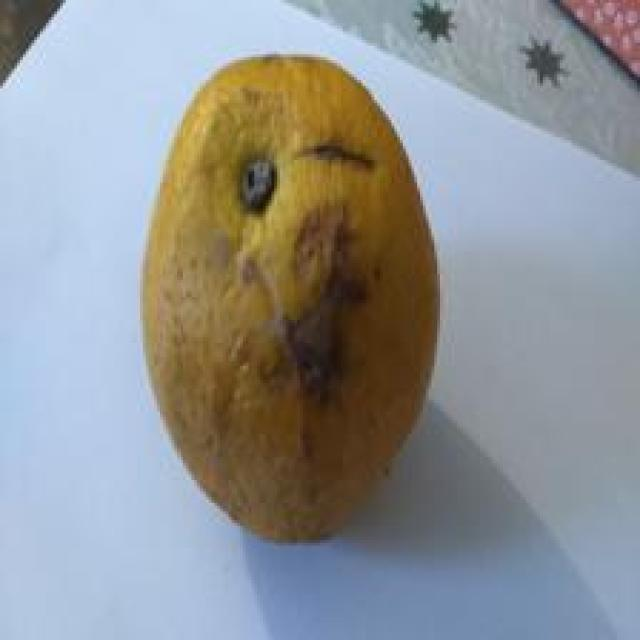overripe: (130, 46, 448, 546)
